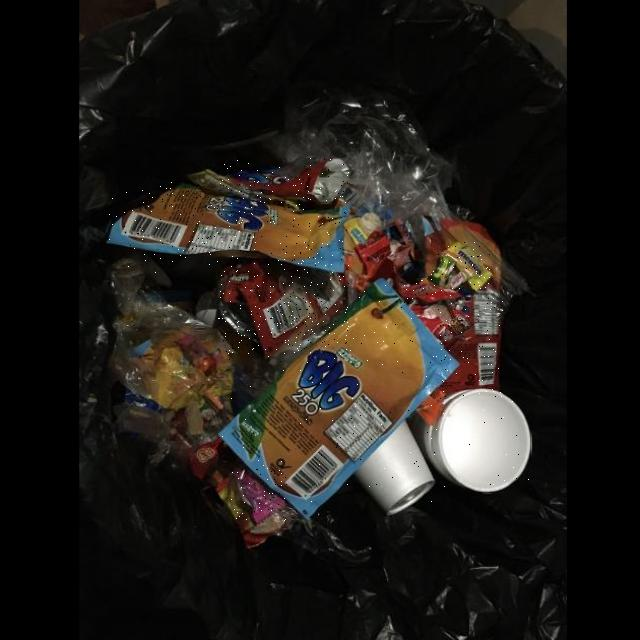styrofoam: (426, 389, 531, 493), (356, 422, 436, 516)
wrapper: (218, 278, 459, 518), (110, 183, 350, 273), (217, 259, 349, 355), (439, 290, 503, 399), (219, 159, 350, 203), (233, 466, 287, 521), (448, 243, 492, 290), (400, 280, 461, 304), (429, 251, 460, 287)
